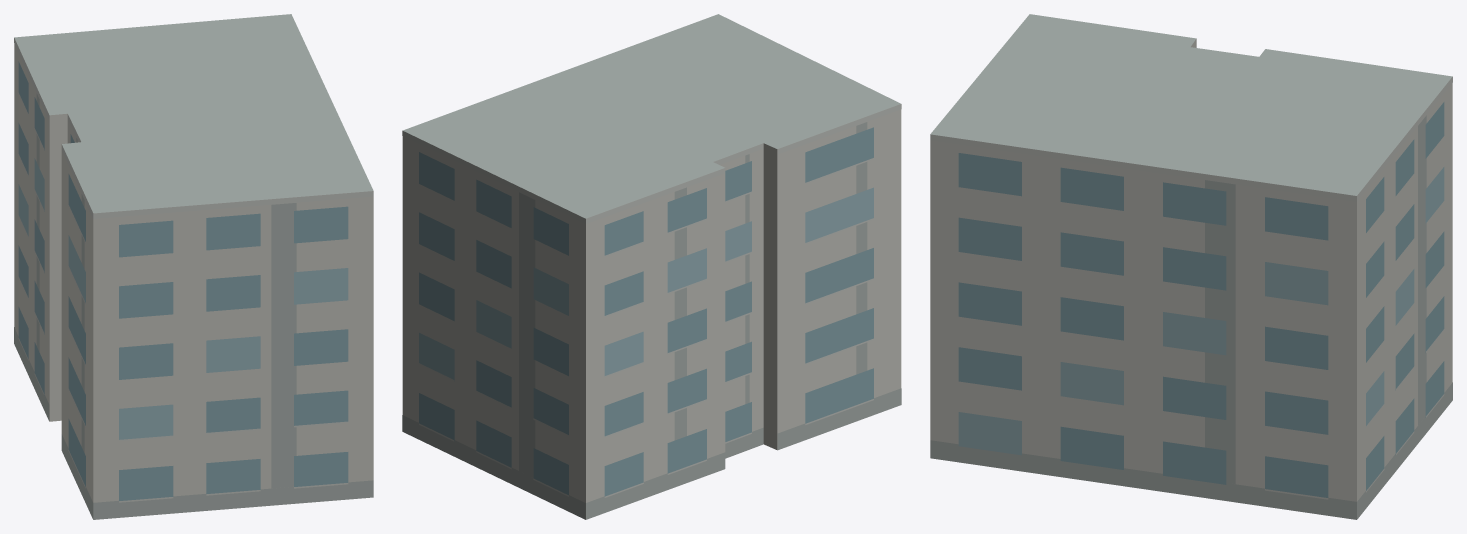
The model's file is survey-upis-32951585.glb.
3 views of the same model, side by side, from view 1: azimuth 30°, elevation 25°; view 2: azimuth 150°, elevation 25°; view 3: azimuth 270°, elevation 25° (orthographic). The views are drawn at different scales.
Parts seen in each view (by area): view 1: survey-upis-32951585.tmp; view 2: survey-upis-32951585.tmp; view 3: survey-upis-32951585.tmp.
Part boxes in pixels (x1=…): survey-upis-32951585.tmp: x1=14, y1=14, x2=373, y2=519; survey-upis-32951585.tmp: x1=402, y1=14, x2=901, y2=519; survey-upis-32951585.tmp: x1=930, y1=14, x2=1452, y2=519.
Size of the model in its own units: 15.92 by 13.2 by 19.31.
